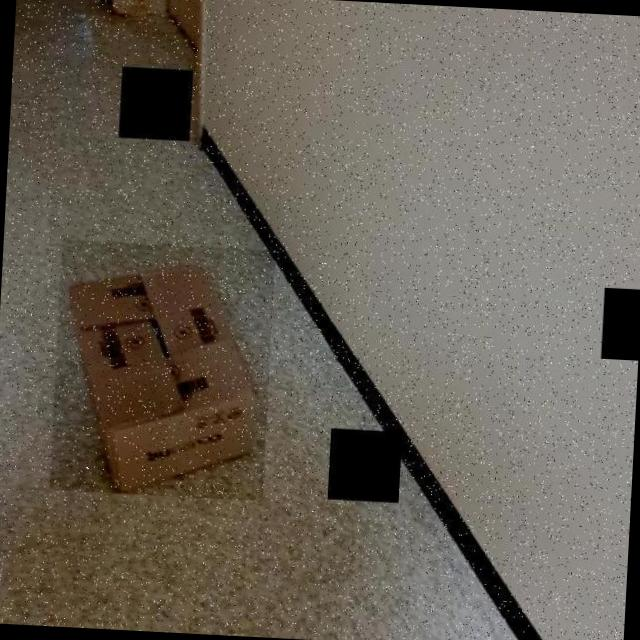box: (49, 240, 276, 501)
